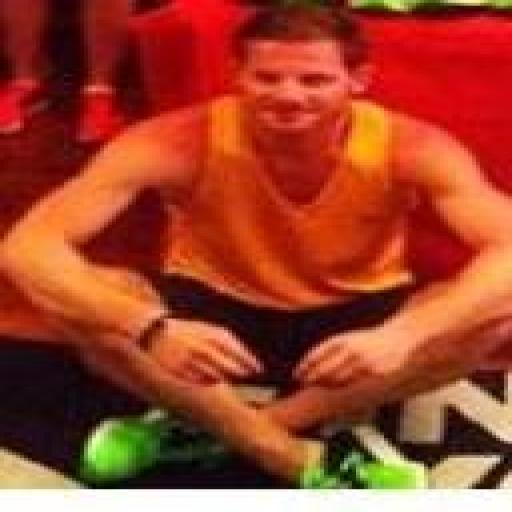person: (0, 6, 511, 486), (76, 0, 131, 142)
